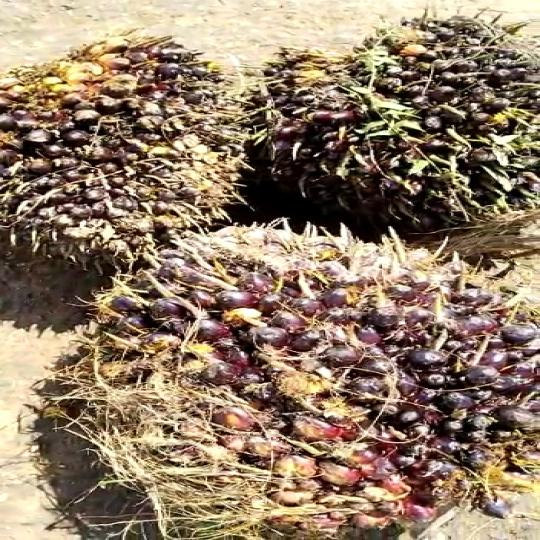kurang masak: (29, 226, 540, 533), (0, 30, 262, 253), (259, 9, 540, 203)
